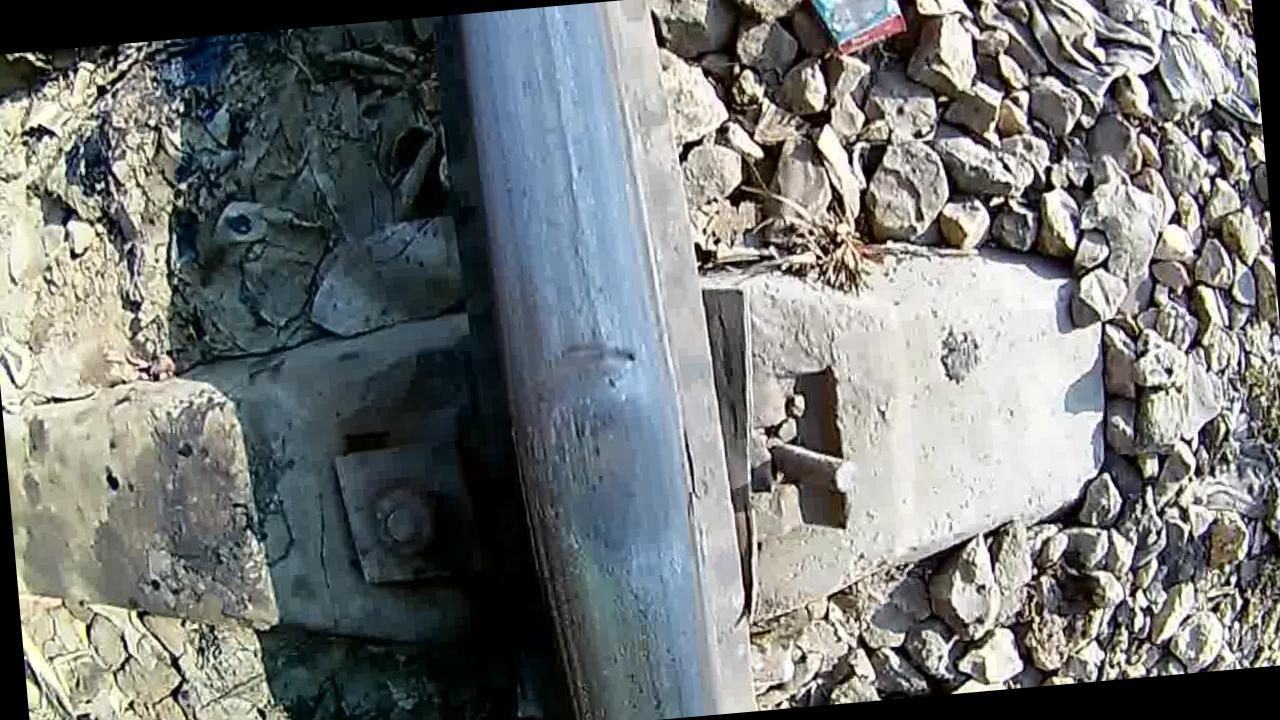bolt_missing: (476, 241, 752, 694)
